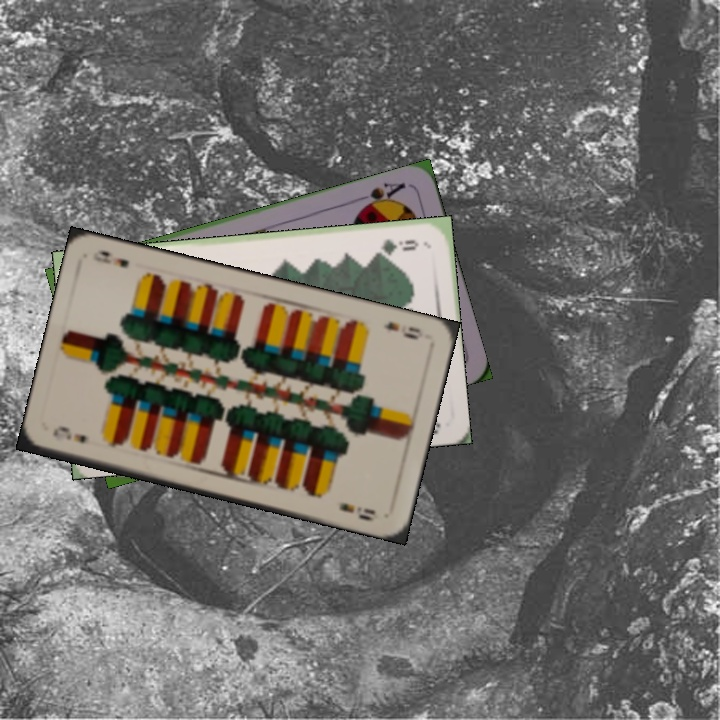E9: (380, 318, 423, 342), (48, 422, 89, 446)
G9: (372, 235, 421, 257)
SA: (352, 178, 408, 214)
